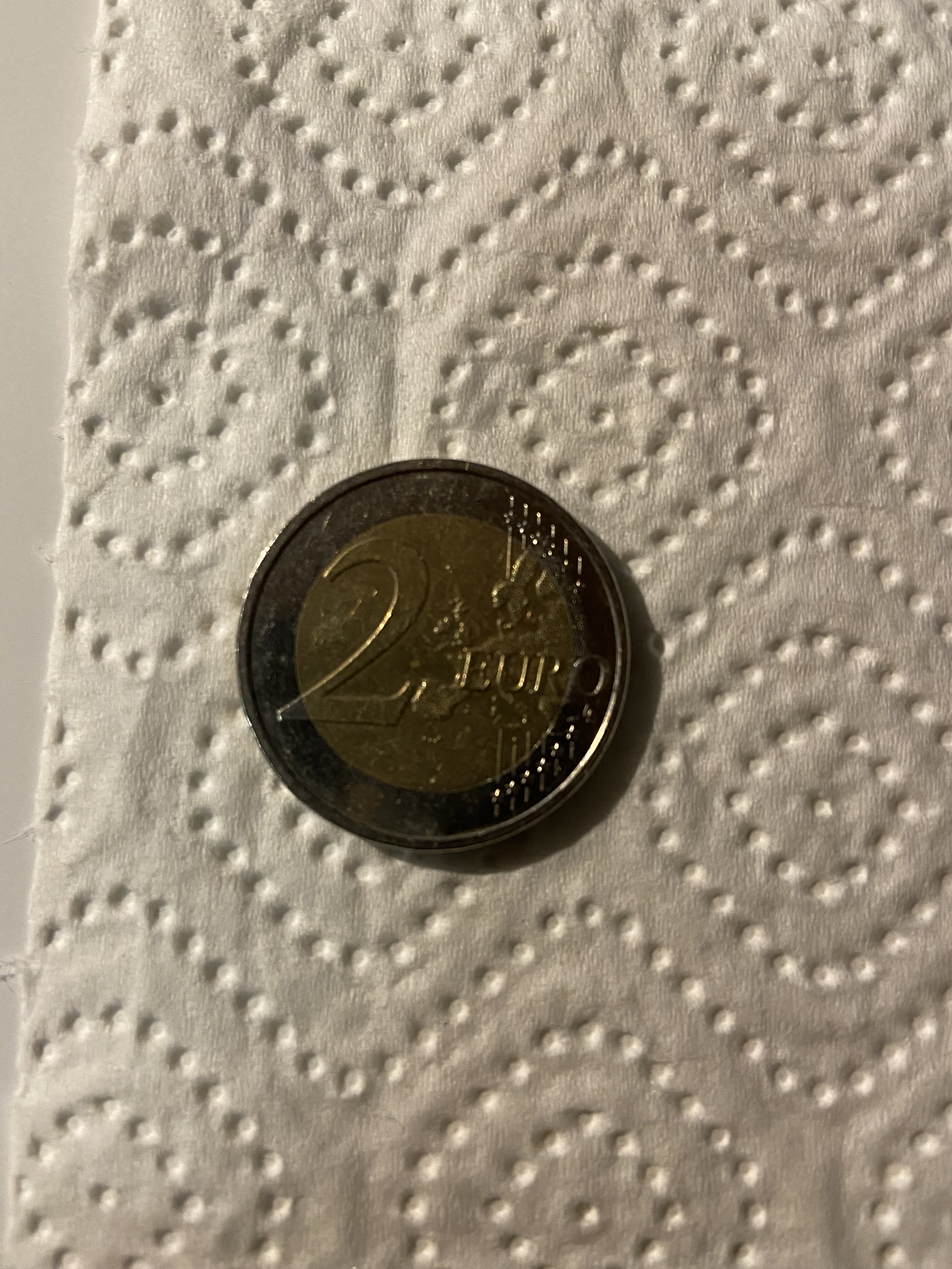2 euro: (234, 451, 639, 871)
